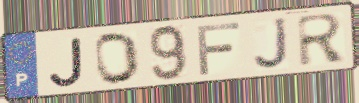9: (148, 23, 190, 84)
F: (194, 20, 243, 77)
J: (252, 15, 292, 72), (47, 35, 86, 88)
O: (93, 30, 143, 87)
R: (294, 11, 349, 69)
